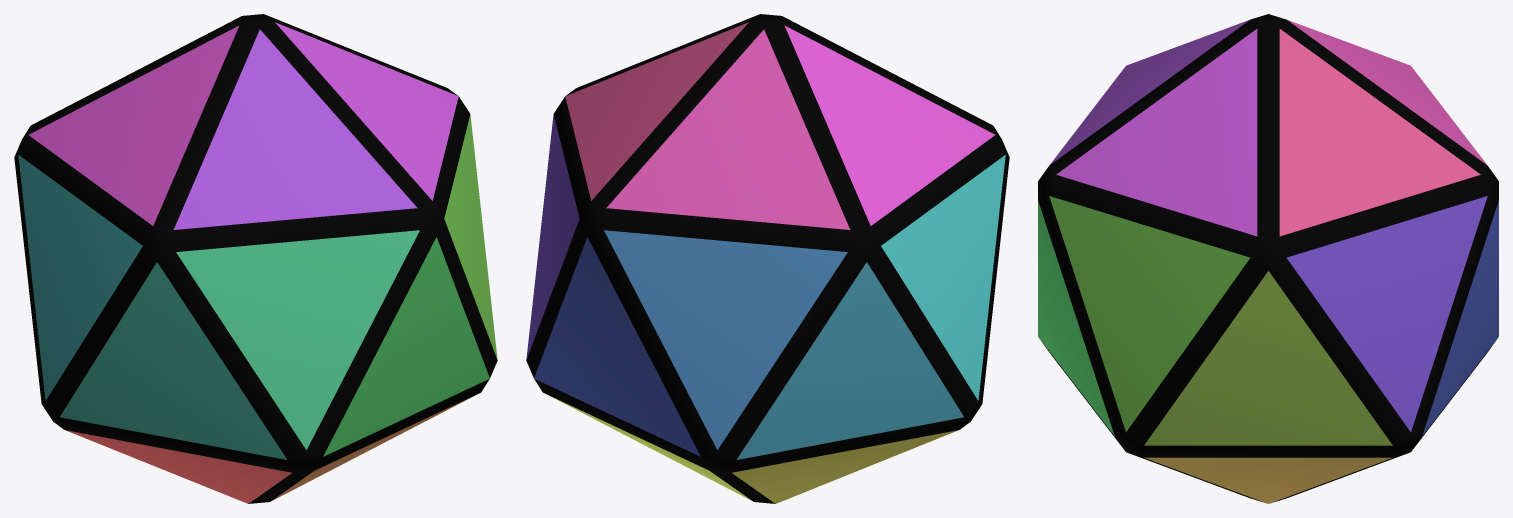
3 views of the same model, side by side, from view 1: azimuth 30°, elevation 25°; view 2: azimuth 150°, elevation 25°; view 3: azimuth 270°, elevation 25° (orthographic).
Visible parts, largest first — view 1: D20; view 2: D20; view 3: D20.
Part boxes in pixels (x1,y1,x2,y2): D20: [14, 14, 497, 503]; D20: [526, 14, 1009, 503]; D20: [1038, 14, 1498, 503].
Bounding box in the file's own units: 102 × 110 × 96.89.
